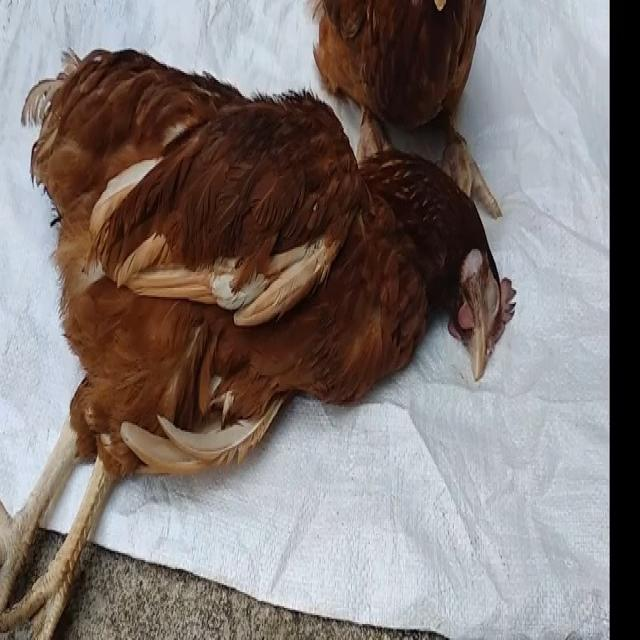dead: (4, 20, 526, 638)
